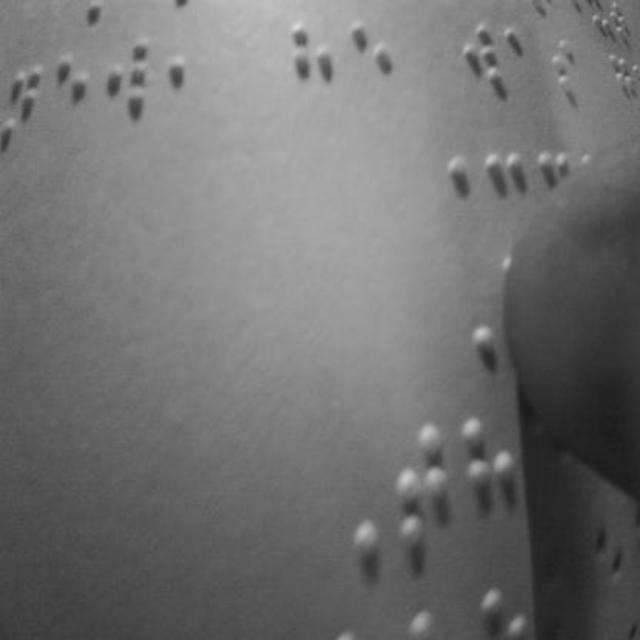braiile: (392, 410, 458, 560), (460, 408, 520, 558), (51, 33, 103, 151), (348, 14, 400, 120), (455, 13, 507, 108), (104, 33, 154, 131), (292, 20, 340, 120)
